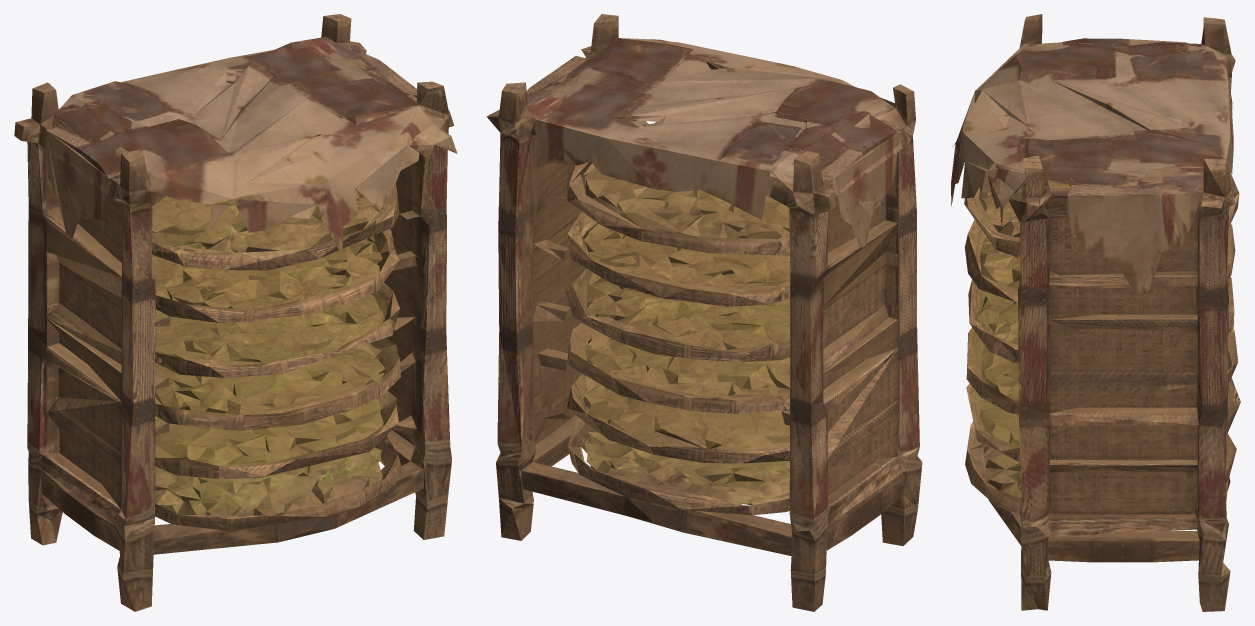
Rendered from tea-dryer.glb.
3 views of the same model, side by side, from view 1: azimuth 30°, elevation 25°; view 2: azimuth 150°, elevation 25°; view 3: azimuth 270°, elevation 25° (orthographic).
Visible parts, largest first — view 1: output_unwrapped; view 2: output_unwrapped; view 3: output_unwrapped.
Part boxes in pixels (x1,y1,x2,y2): output_unwrapped: (14,14,457,611); output_unwrapped: (486,14,922,611); output_unwrapped: (951,14,1240,611).
Bounding box in the file's own units: 1.27 × 1.6 × 0.9388.
Materials: 1 (1 with a texture image).
